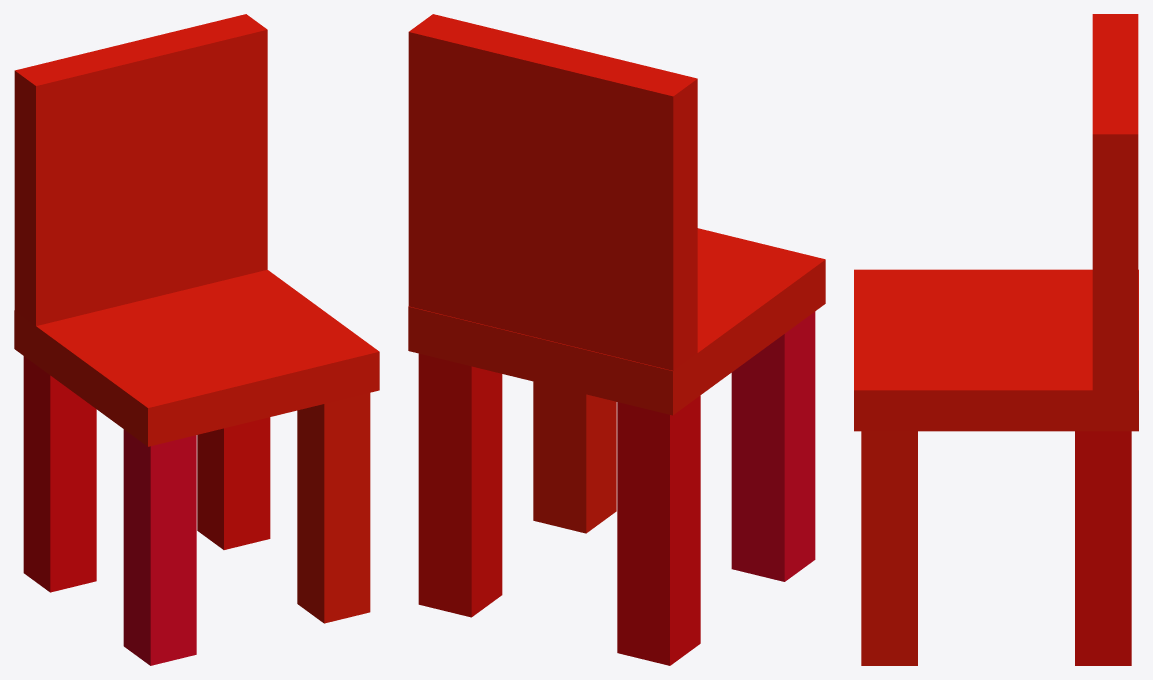
Rendered from ExampleChair.fbx.
3 renders of one model, left to right at view 1: azimuth 30°, elevation 25°; view 2: azimuth 150°, elevation 25°; view 3: azimuth 270°, elevation 25°, orthographic. The views are drawn at different scales.
Visible parts, largest first — view 1: Cube; view 2: Cube; view 3: Cube.
Part boxes in pixels (x1,y1,x2,y2): Cube: (14,14,379,665); Cube: (408,14,825,665); Cube: (854,14,1138,665).
Bounding box in the file's own units: 2 × 4.14 × 2.
